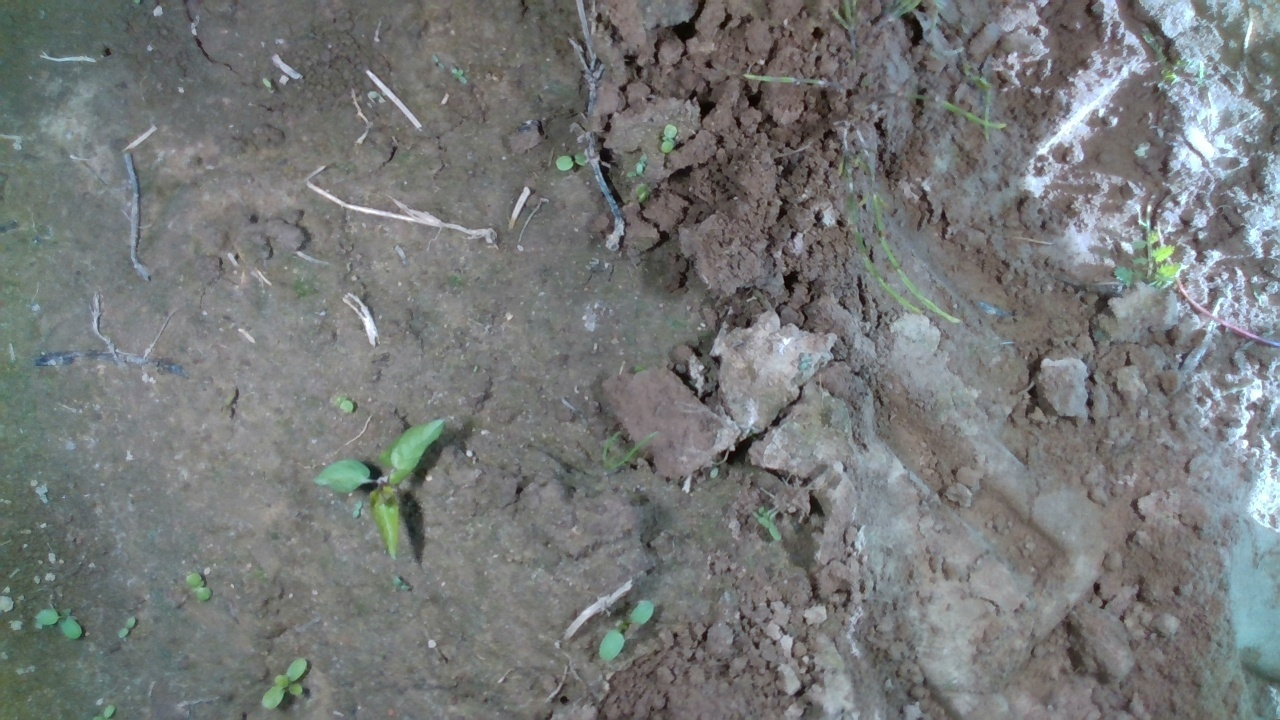weed: (307, 413, 448, 566), (597, 596, 655, 664), (260, 656, 308, 711), (33, 608, 84, 640), (184, 571, 213, 603), (553, 149, 586, 172), (114, 614, 139, 640), (659, 122, 679, 154), (329, 391, 354, 413)
